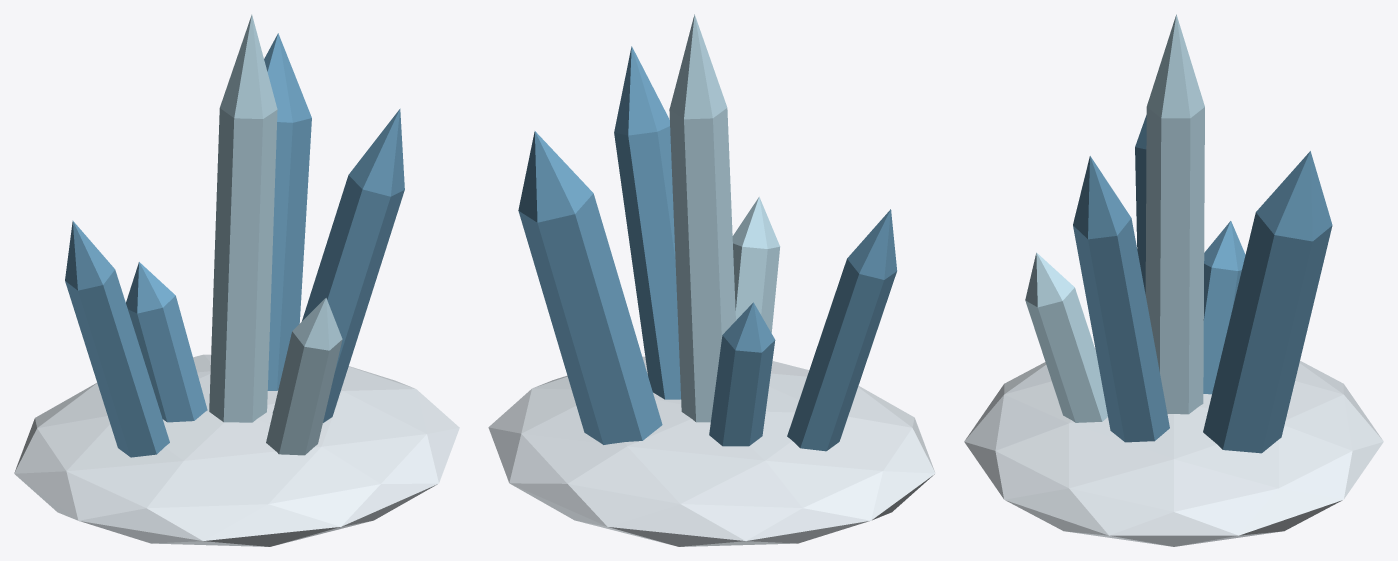
The model's file is runtime.glb.
3 renders of one model, left to right at view 1: azimuth 30°, elevation 25°; view 2: azimuth 150°, elevation 25°; view 3: azimuth 270°, elevation 25°, orthographic.
Parts seen in each view (by area): view 1: frozen_crystal_snow_noshadow_nocol, frozen_crystal_deep_nocol, frozen_crystal_ice_nocol; view 2: frozen_crystal_deep_nocol, frozen_crystal_snow_noshadow_nocol, frozen_crystal_ice_nocol; view 3: frozen_crystal_snow_noshadow_nocol, frozen_crystal_deep_nocol, frozen_crystal_ice_nocol.
Part boxes in pixels (x1=…): frozen_crystal_snow_noshadow_nocol: x1=14, y1=354, x2=459, y2=546; frozen_crystal_deep_nocol: x1=65, y1=33, x2=404, y2=457; frozen_crystal_ice_nocol: x1=209, y1=14, x2=342, y2=455; frozen_crystal_deep_nocol: x1=518, y1=46, x2=897, y2=451; frozen_crystal_snow_noshadow_nocol: x1=488, y1=356, x2=935, y2=546; frozen_crystal_ice_nocol: x1=669, y1=14, x2=780, y2=422; frozen_crystal_snow_noshadow_nocol: x1=964, y1=348, x2=1383, y2=546; frozen_crystal_deep_nocol: x1=1073, y1=115, x2=1332, y2=453; frozen_crystal_ice_nocol: x1=1025, y1=14, x2=1204, y2=422.
Bounding box in the file's own units: 3.19 × 3.77 × 3.01.
